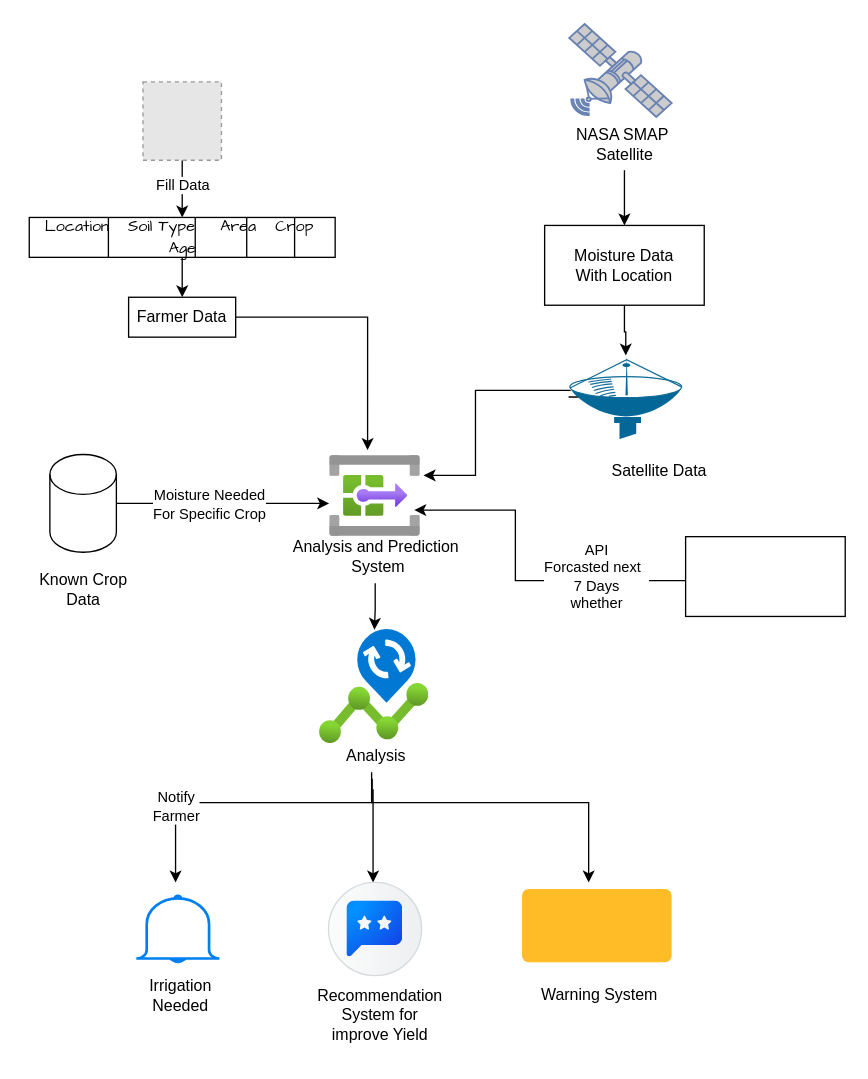
This 868x1079 diagram has some shape labels left out. Grey dashed boxes stand in for pictures. The shapes that lost their labels are listed below. From the top down, each one's centre as x and y in pixels, then its label:
At (x=764, y=575): "Meteomatics (Nasa Database)".
At (x=596, y=925): "Warning".
